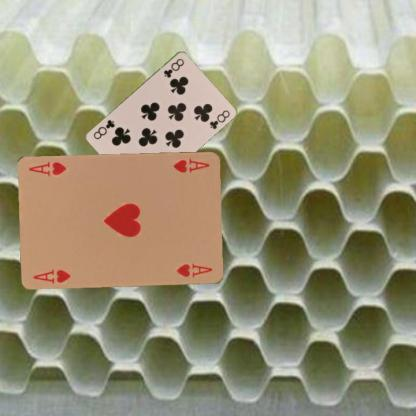8c: (161, 56, 186, 78)
Ah: (30, 266, 72, 285), (171, 155, 211, 174)
